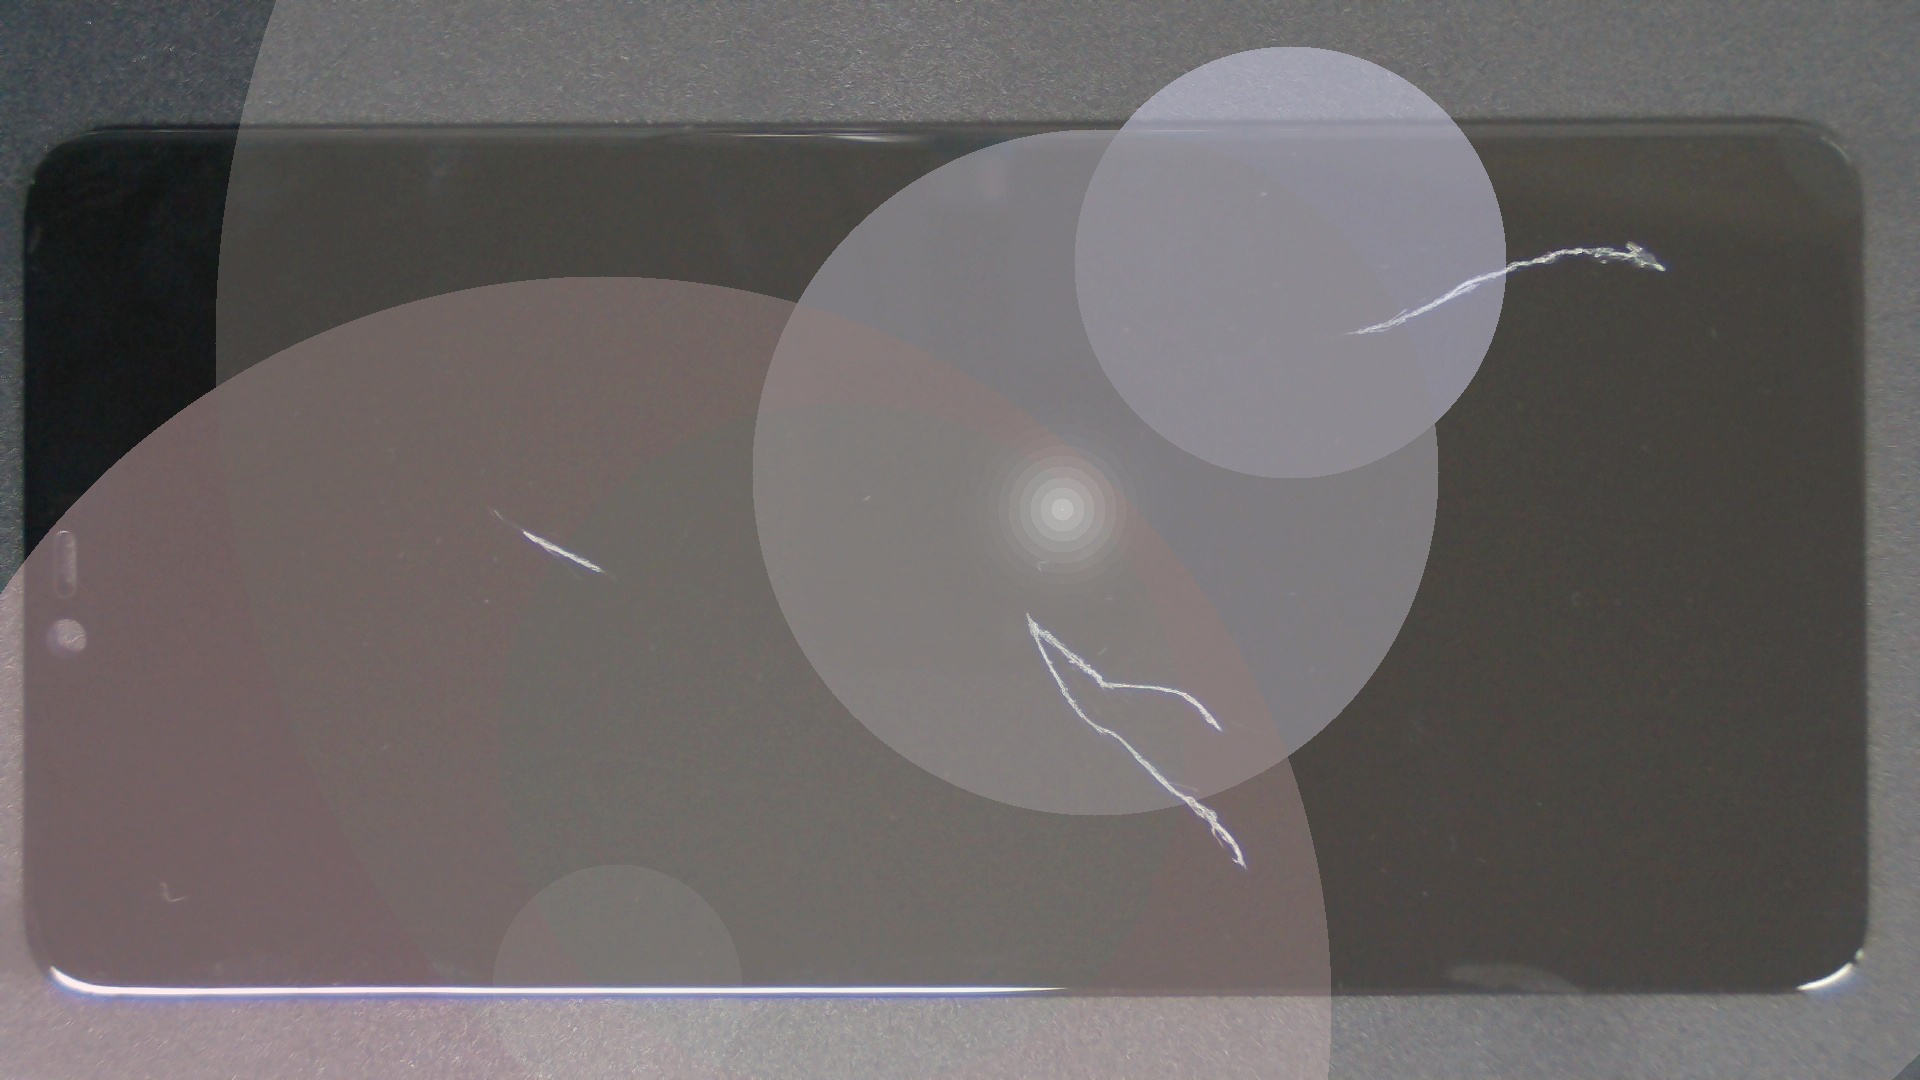oil: (514, 305, 1542, 915), (260, 264, 778, 793), (814, 120, 1920, 360), (247, 252, 740, 764)
